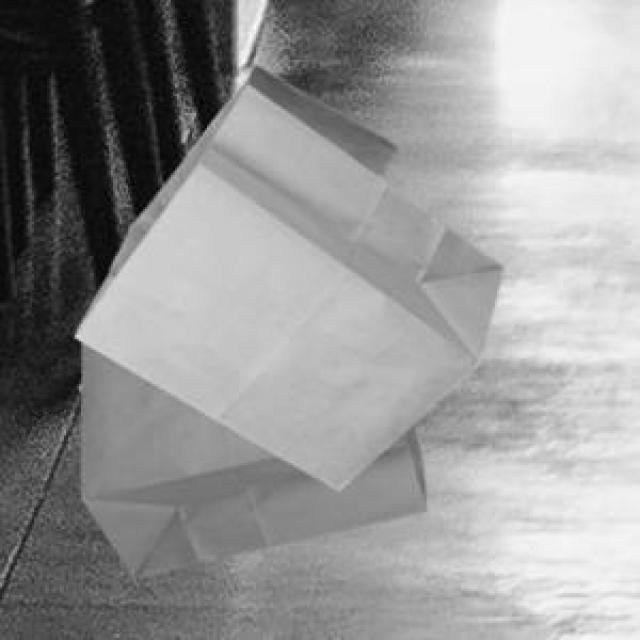paper: (70, 81, 499, 484), (77, 339, 421, 572)
